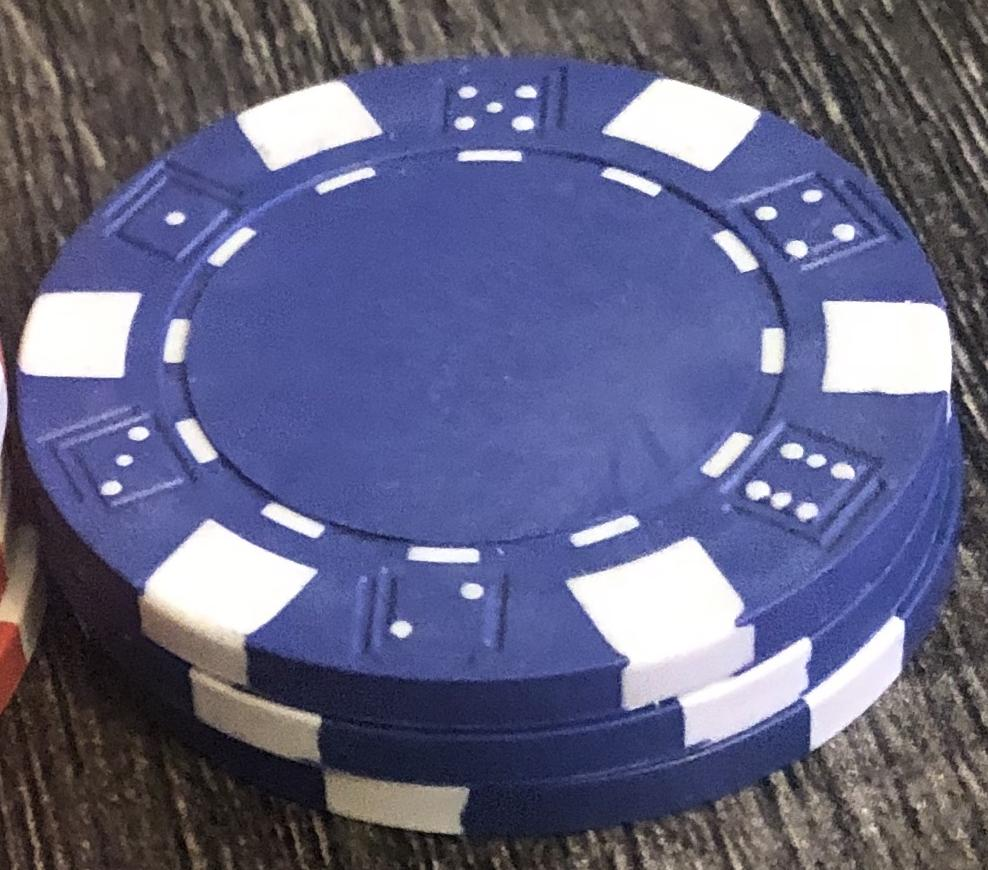Chip: (1, 1, 988, 870)
